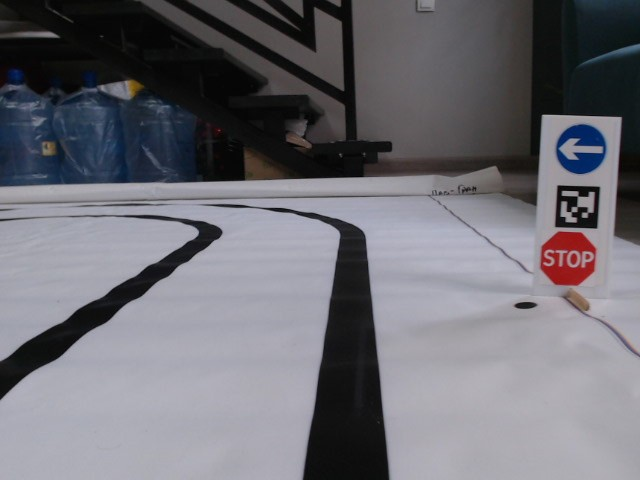Stop: (539, 230, 597, 287)
